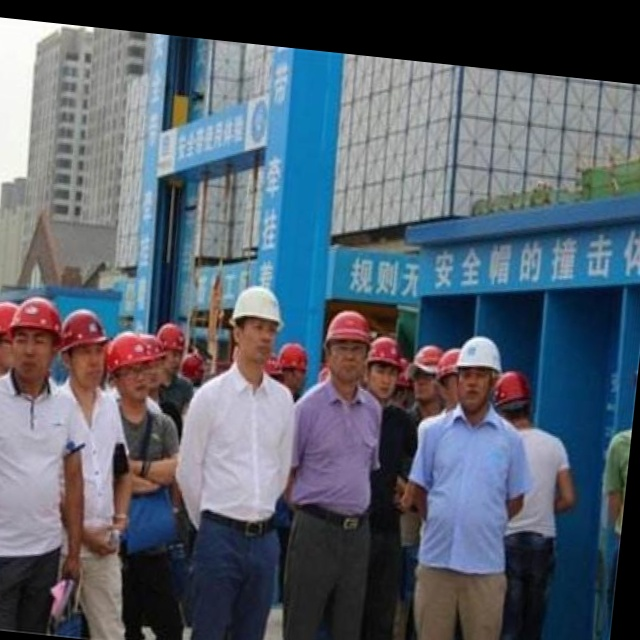Sin_Chaleco: (173, 360, 299, 540), (288, 377, 386, 513)
